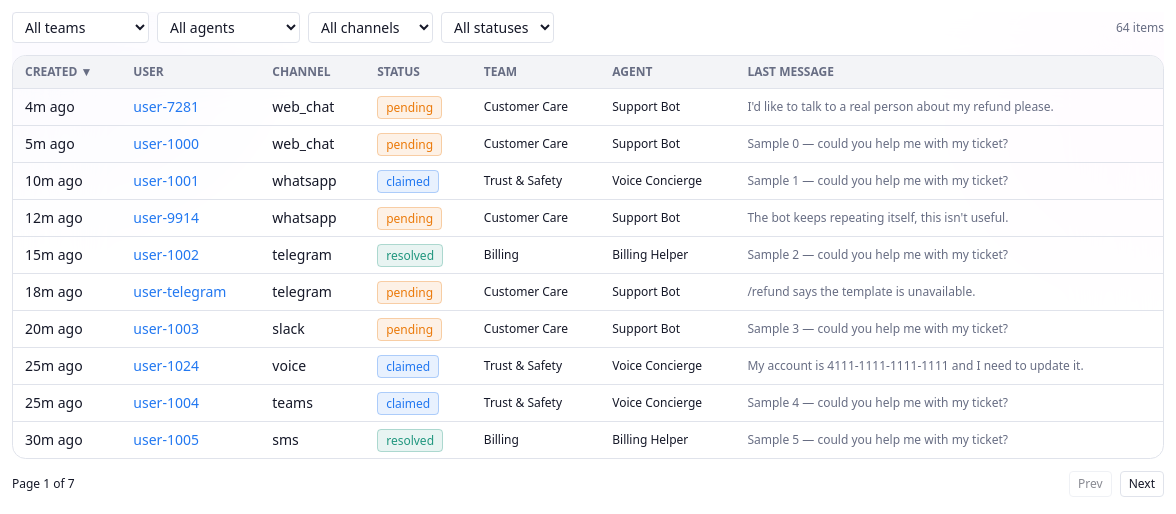
InboxQueue › paginates and disables prev on first page
The image size is (1176, 514).
Expected: the button with test id "queue-prev" is disabled, [1069,471,1112,497]
What coordinates should you click on to do the following:
click the button with test id "queue-next"
I would click on:
 (1142, 484)
Its box is [1120,471,1164,497].
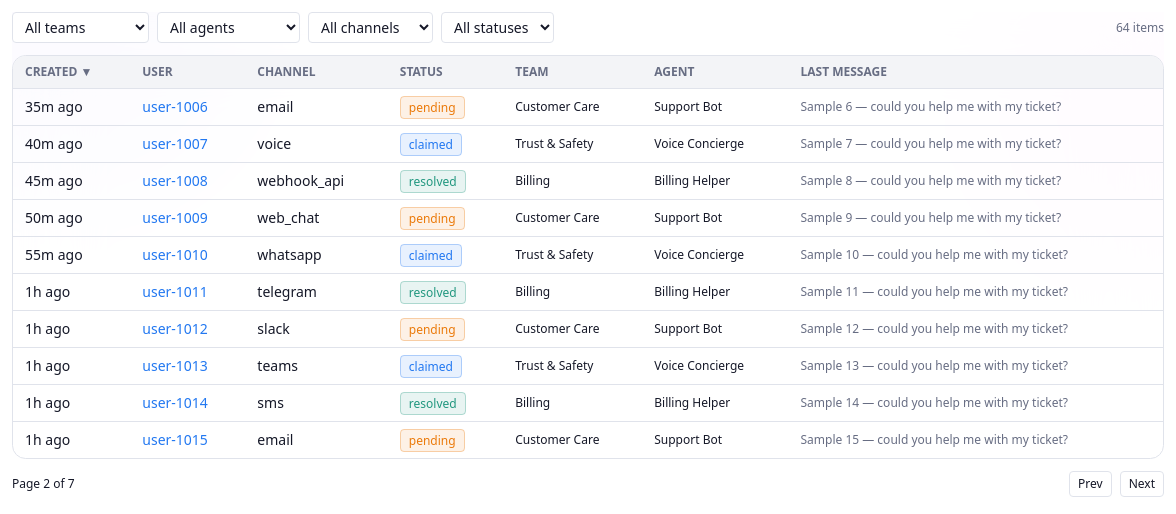
Expected: the text with test id "queue-page-indicator" shows "Page 2 of", [12,476,75,492]
